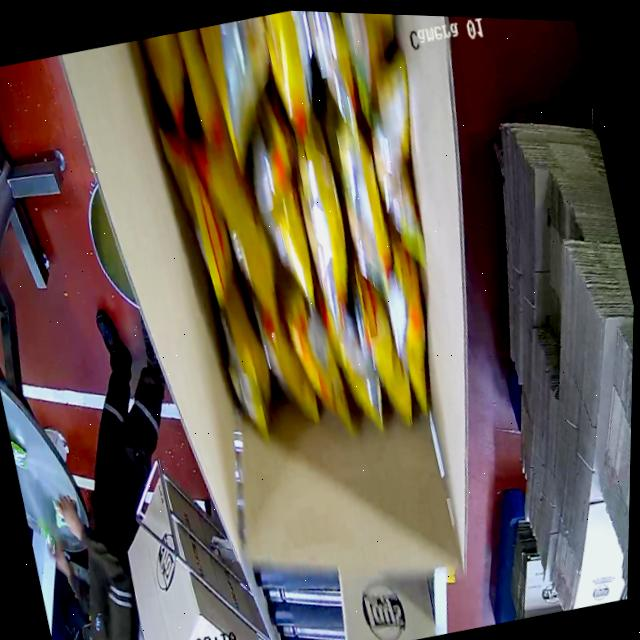SALTED: (135, 5, 494, 475)
